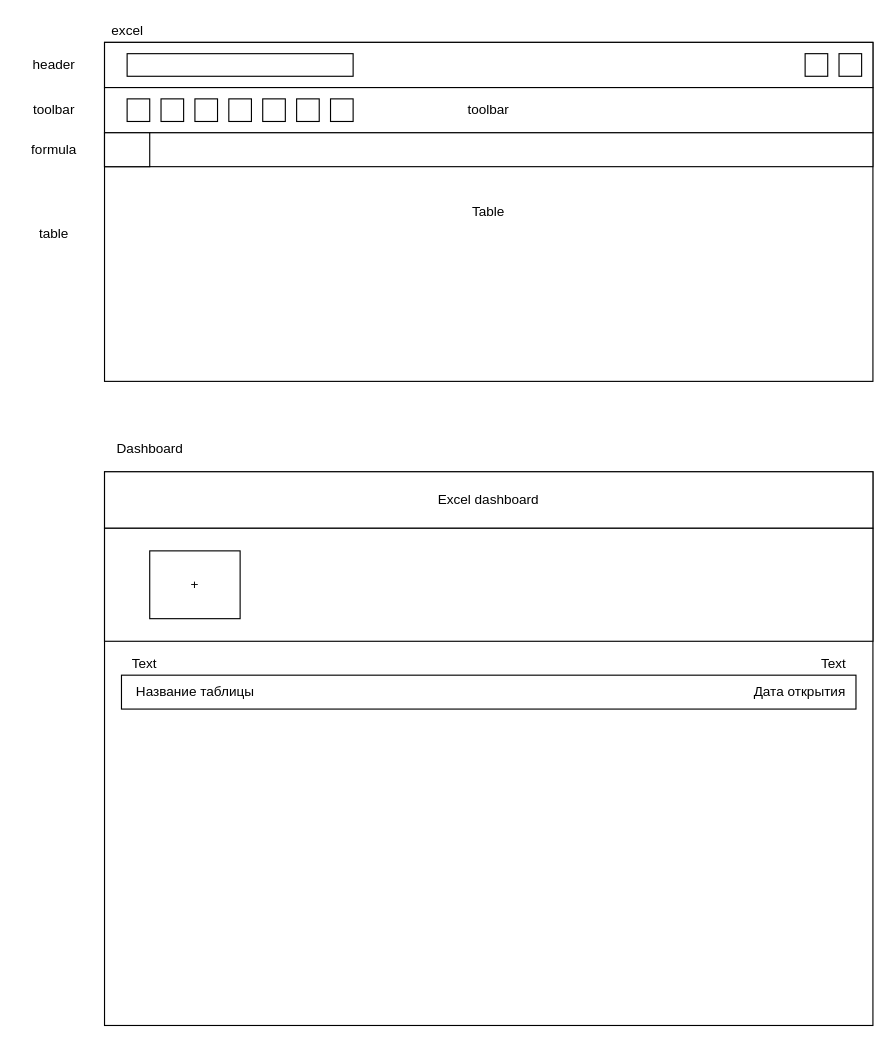
The diagram is 893 pixels wide and 1045 high, and some of its shapes have lost their labels. Here are the shapes that lost their labels. From the top down, the centre of each, then its label:
At point 239,64: "название".
At point 126,149: "fx".
